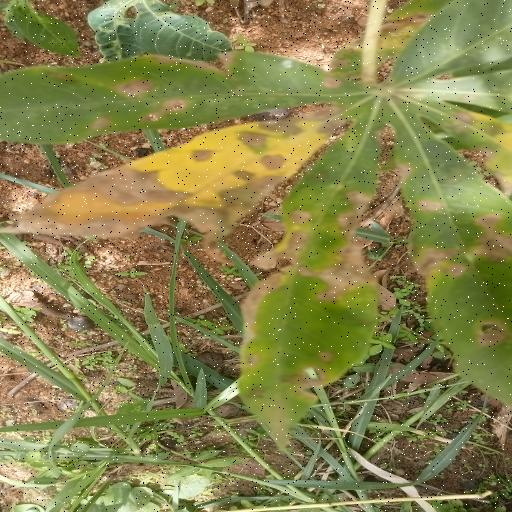Cassava_Brown_Leaf_Spot: (7, 2, 512, 438)
